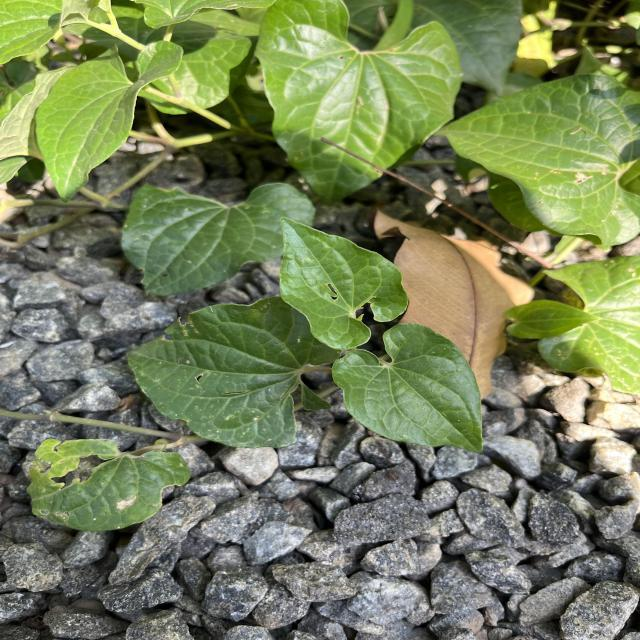Piper longum: (330, 322, 486, 454), (275, 215, 412, 353)
